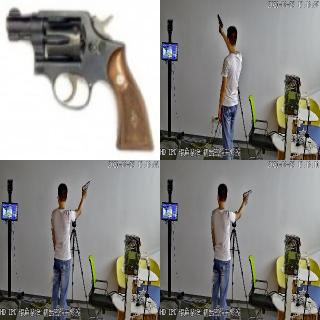gun: (7, 8, 154, 150), (80, 180, 90, 198), (242, 187, 252, 205), (216, 12, 223, 34)
